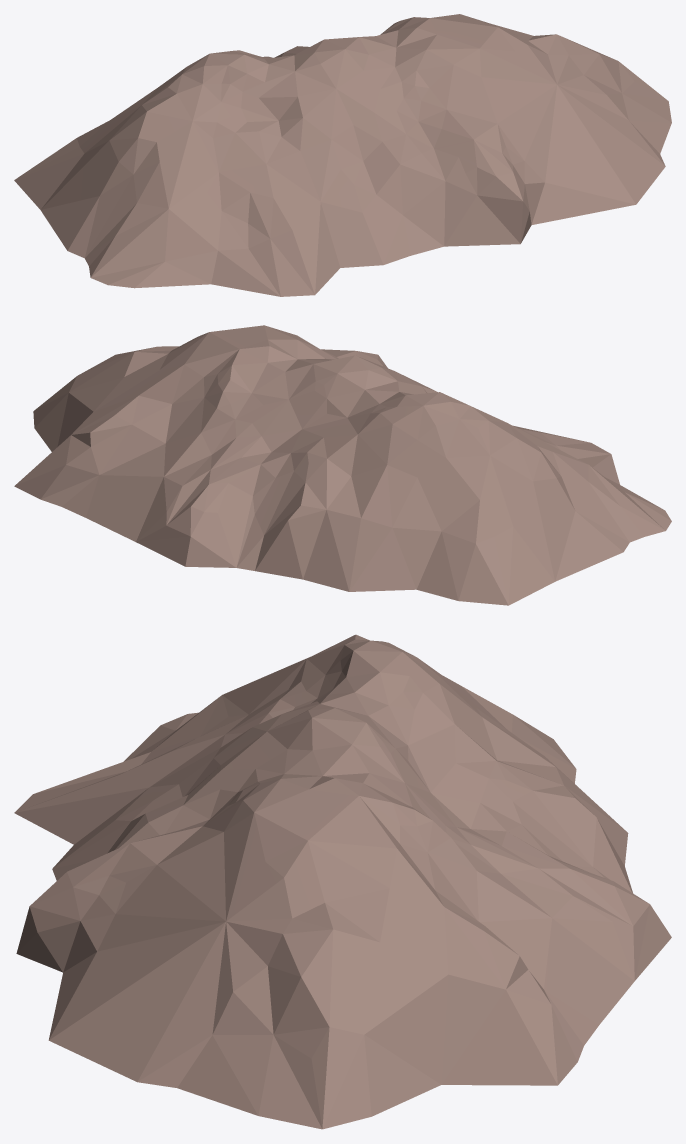
Rendered from mountain_001.fbx.
3 renders of one model, top to bottom at view 1: azimuth 30°, elevation 25°; view 2: azimuth 150°, elevation 25°; view 3: azimuth 270°, elevation 25°, orthographic. The views are drawn at different scales.
Parts seen in each view (by area): view 1: mountain_001; view 2: mountain_001; view 3: mountain_001.
Part boxes in pixels (x1,y1,x2,y2): mountain_001: [14, 14, 671, 296]; mountain_001: [14, 325, 671, 605]; mountain_001: [14, 634, 671, 1129].
Size of the model in its own units: 13328 by 8838 by 2790.
